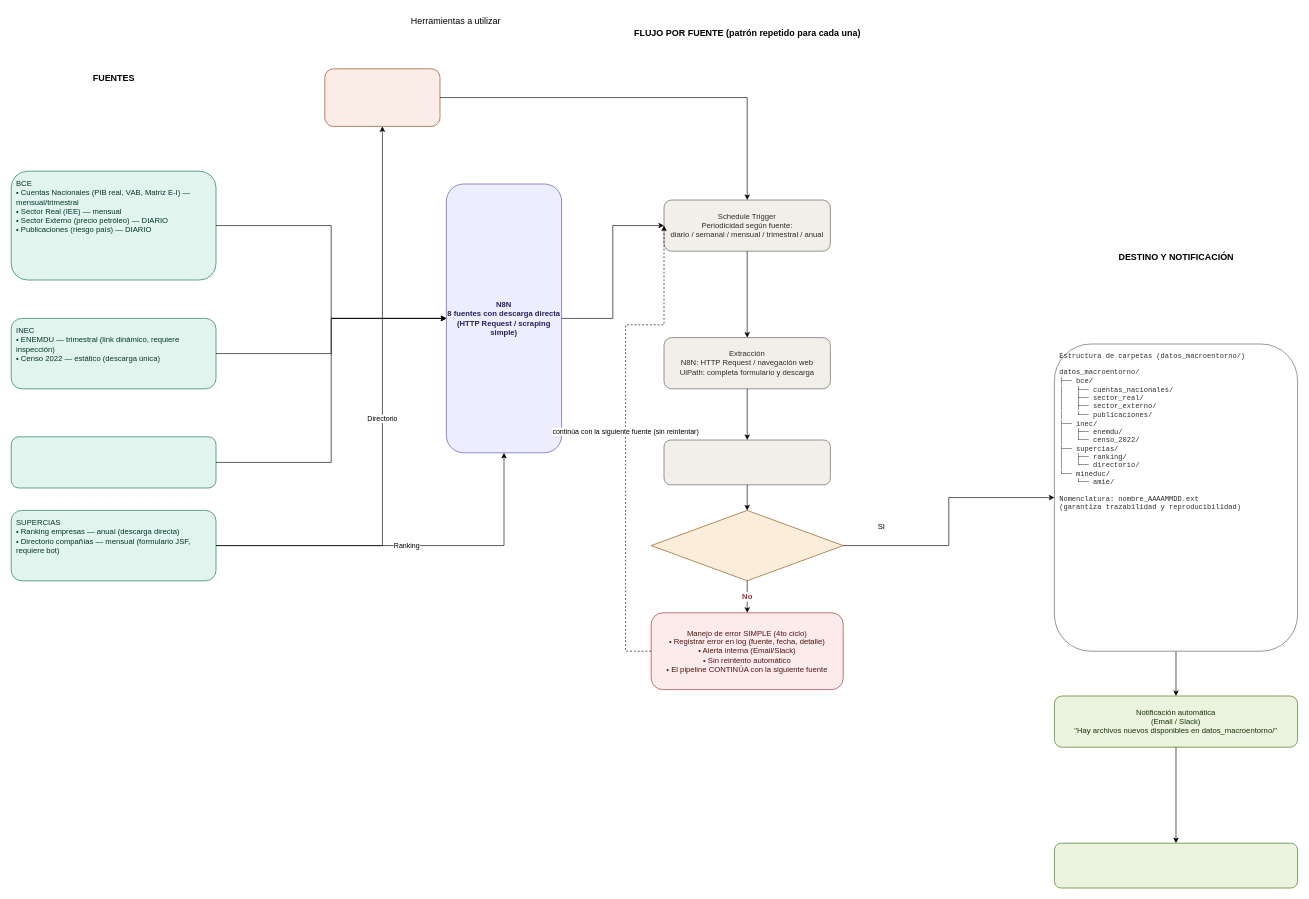
This 1309x899 diagram has some shape labels left out. The centre of each missing label's shape, as x and y in pixels:
"Equipo de Datos Recoge / procesa los archivos desde datos_macroentorno/" belongs at (1176,865).
"Guardar archivo nombre_AAAAMMDD.ext Ej: pib_real_20260512.xlsx" belongs at (746,462).
"MINEDUC • AMIE (registro administrativo) — anual" belongs at (113,462).
"UiPath Supercias Directorio (robot completa formulario JSF y descarga)" belongs at (382,97).
"¿Archivo válido? (no vacío, formato/extensión esperada)" belongs at (747,545).
